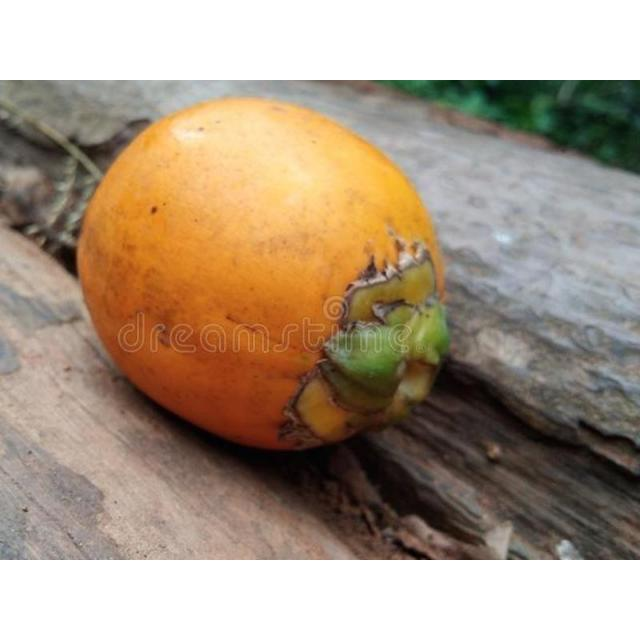good: (76, 97, 451, 454)
